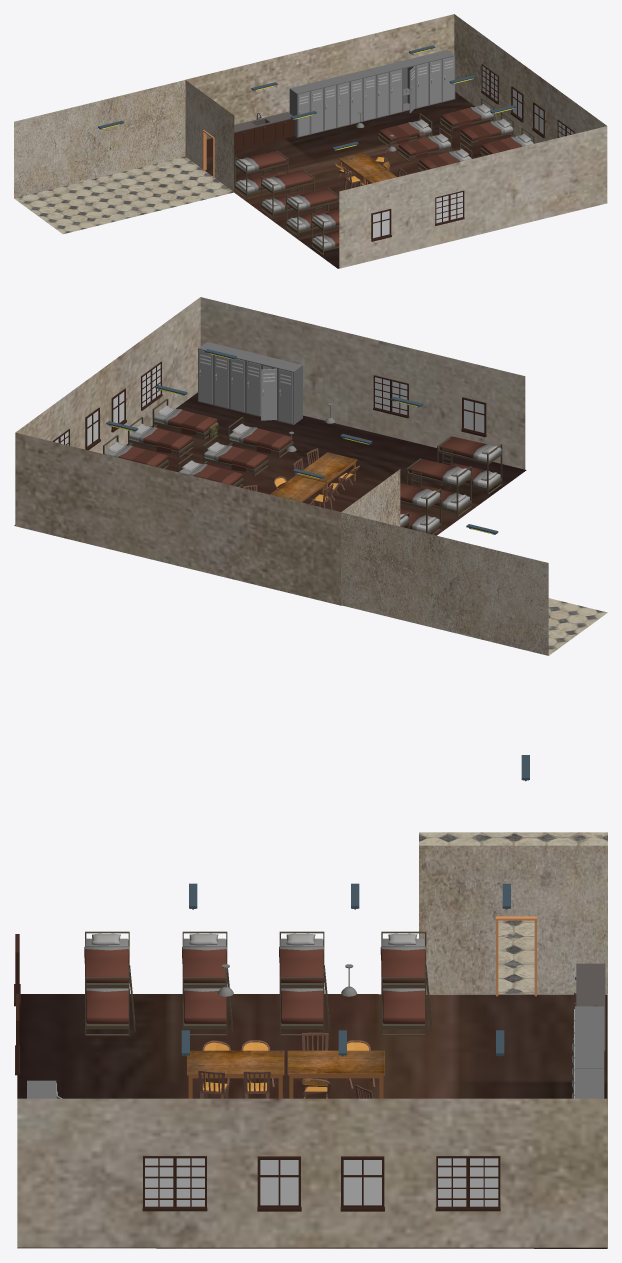
Rendered from Shelter.fbx.
3 views of the same model, one above another, from view 1: azimuth 30°, elevation 25°; view 2: azimuth 150°, elevation 25°; view 3: azimuth 270°, elevation 25° (orthographic). The views are drawn at different scales.
Visible parts, largest first — view 1: Cube, Plane.001, Plane, Bed_Bunk, Bed_Bunk.001, Bed_Bunk.002, Bed_Single.006, Bed_Single.003, Bed_Bunk.003, Bed_Single.004, Bed_Single.005, Door_Cube.009 (+22 smaller); view 2: Cube, Plane.001, Plane, Bed_Bunk.003, Bed_Bunk.001, Door_Cube.016, Bed_Bunk.002, Bed_Single.008, Bed_Single.009, Bed_Single.001, Bed_Single, Window_Large2.002 (+13 smaller); view 3: Cube, Plane, Plane.001, Bed_Bunk, Bed_Bunk.002, Bed_Bunk.003, Bed_Bunk.001, Window_Large2, Window_Large2.001, Node.006, Node.002, Window_Small2 (+1 smaller).
Part boxes in pixels (box(x1,y1,x2,y2)): Cube: box(185, 14, 607, 268); Plane.001: box(14, 80, 234, 234); Plane: box(205, 92, 515, 268); Bed_Bunk: box(234, 150, 288, 198); Bed_Bunk.001: box(286, 188, 339, 236); Bed_Bunk.002: box(261, 169, 314, 218); Bed_Single.006: box(397, 127, 451, 161); Bed_Single.003: box(459, 112, 513, 146); Bed_Bunk.003: box(311, 210, 339, 254); Bed_Single.004: box(440, 98, 494, 132); Bed_Single.005: box(378, 113, 432, 147); Door_Cube.009: box(289, 85, 310, 137); Cube: box(15, 297, 525, 605); Plane.001: box(341, 469, 607, 655); Plane: box(14, 392, 526, 535); Bed_Bunk.003: box(437, 436, 502, 494); Bed_Bunk.001: box(406, 458, 471, 517); Door_Cube.016: box(278, 361, 302, 424); Bed_Bunk.002: box(400, 483, 441, 534); Bed_Single.008: box(203, 435, 268, 476); Bed_Single.009: box(227, 417, 293, 458); Bed_Single.001: box(128, 417, 193, 458); Bed_Single: box(152, 398, 218, 439); Window_Large2.002: box(373, 375, 409, 418); Cube: box(17, 1098, 607, 1247); Plane: box(17, 994, 607, 1248); Plane.001: box(419, 832, 607, 993); Bed_Bunk: box(380, 931, 431, 1035); Bed_Bunk.002: box(279, 931, 330, 1035); Bed_Bunk.003: box(84, 931, 135, 1035); Bed_Bunk.001: box(182, 931, 233, 1035); Window_Large2: box(435, 1156, 500, 1211); Window_Large2.001: box(142, 1156, 207, 1211); Node.006: box(287, 1050, 384, 1098); Node.002: box(187, 1050, 284, 1098); Window_Small2: box(257, 1156, 301, 1211).
Size of the model in its own units: 2789 by 467 by 1680.
212 materials, 4 textured.
